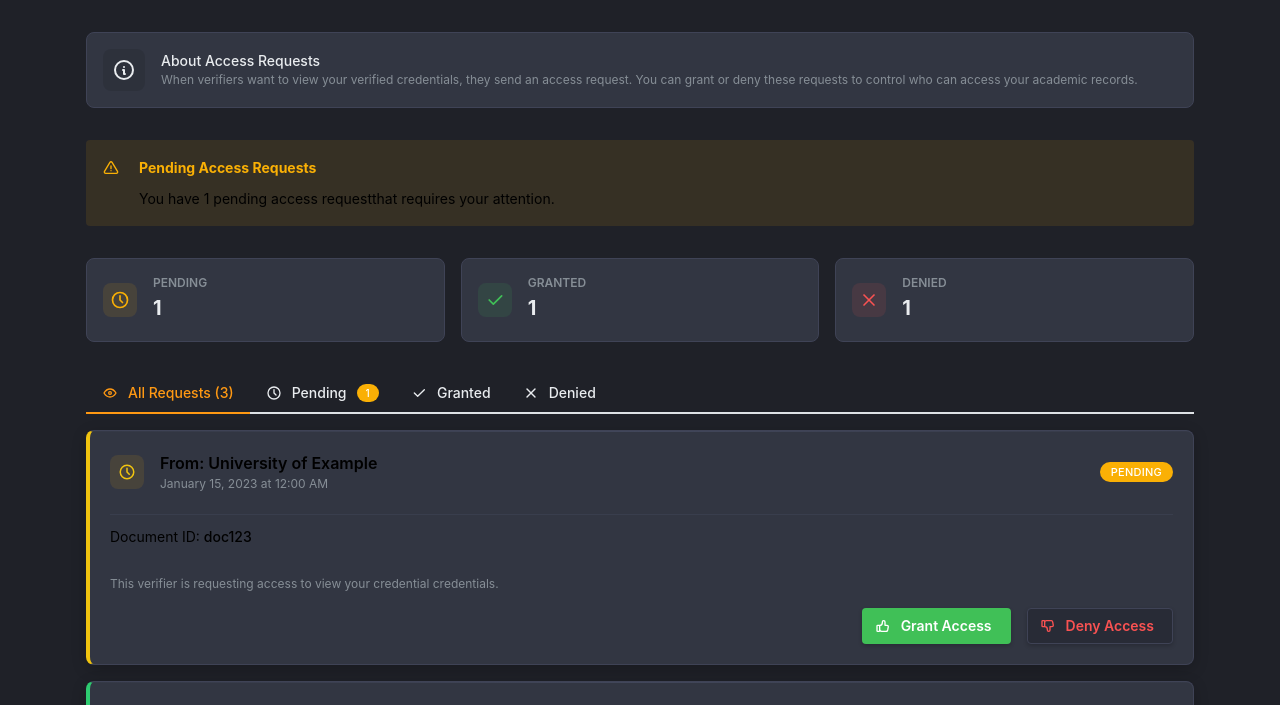
Test case: AccessRequests Component › filters requests when tabs are clicked
Expected: the text "From: University of Example" is shown, [160,451,377,476]
Click on Pending tab
Click the tab "Pending 1".
click(322, 394)  # box [250,374,395,414]
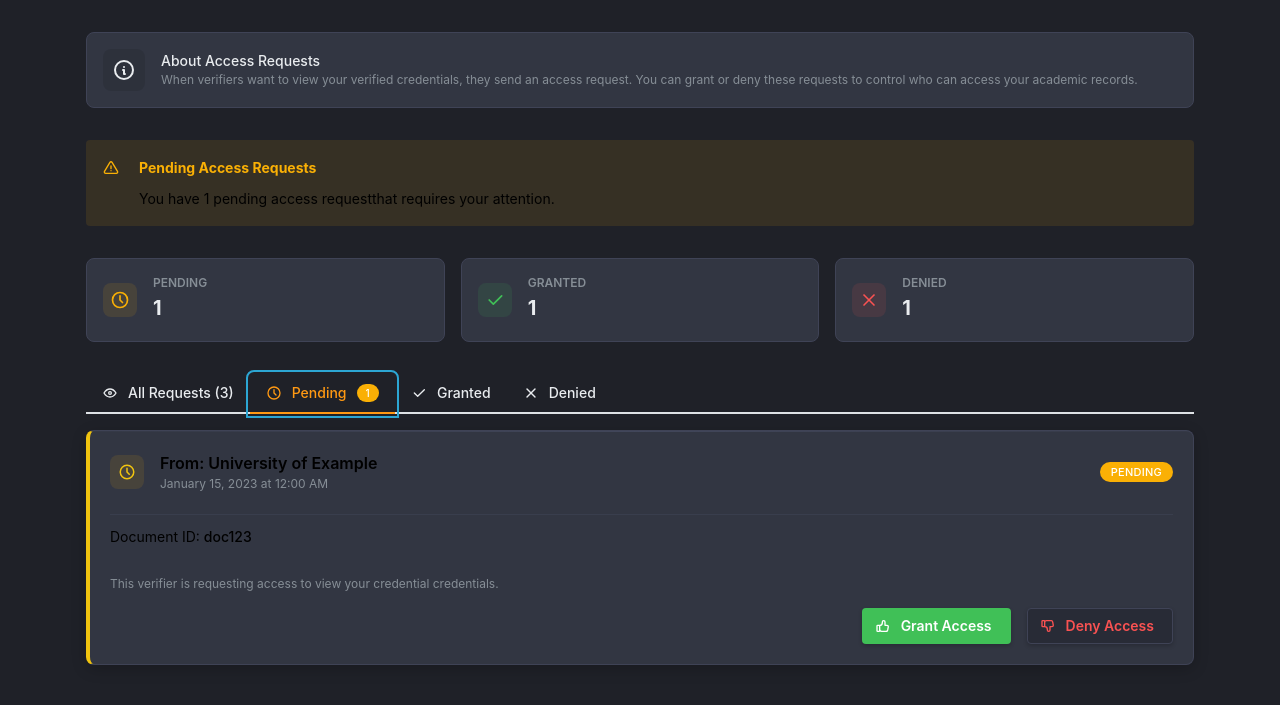
Expected: the text "From: University of Example" is shown, [160,451,377,476]
Click on Granted tab
Click the tab "Granted".
click(451, 394)  # box [395,374,507,414]
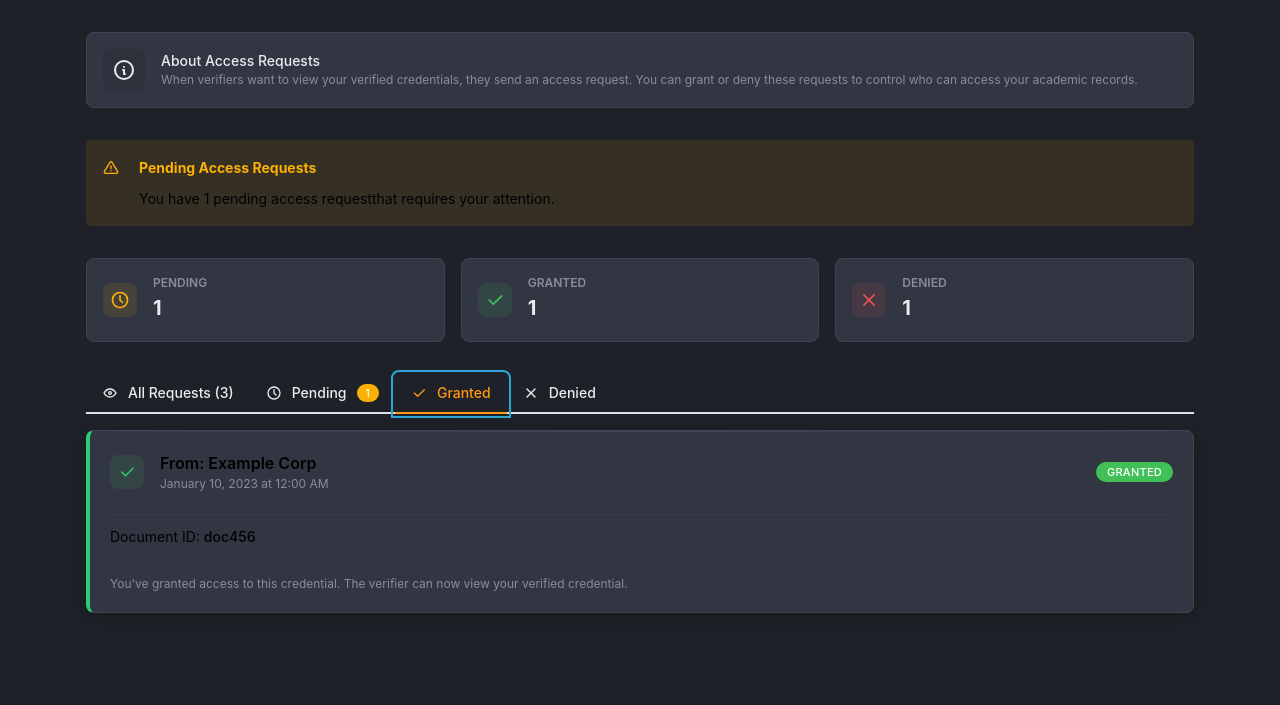
Expected: the text "Government Agency" is not shown
Result: the text "University of Example" is gone
Result: the text "From: Example Corp" is shown at [160,451,329,476]
Click on Denied tab
Click the tab "Denied".
click(559, 394)  # box [507,374,612,414]
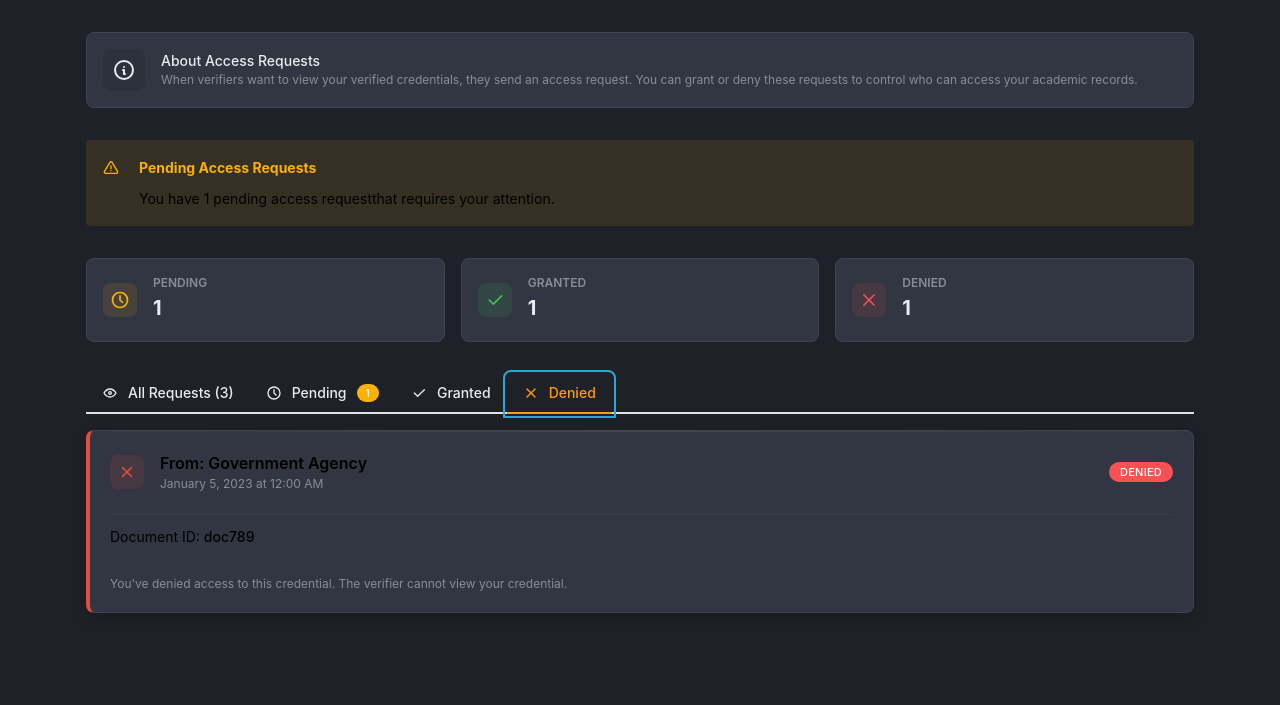
Expected: the text "University of Example" is not shown
Result: the text "Example Corp" is gone
Result: the text "From: Government Agency" is shown at [160,451,367,476]
